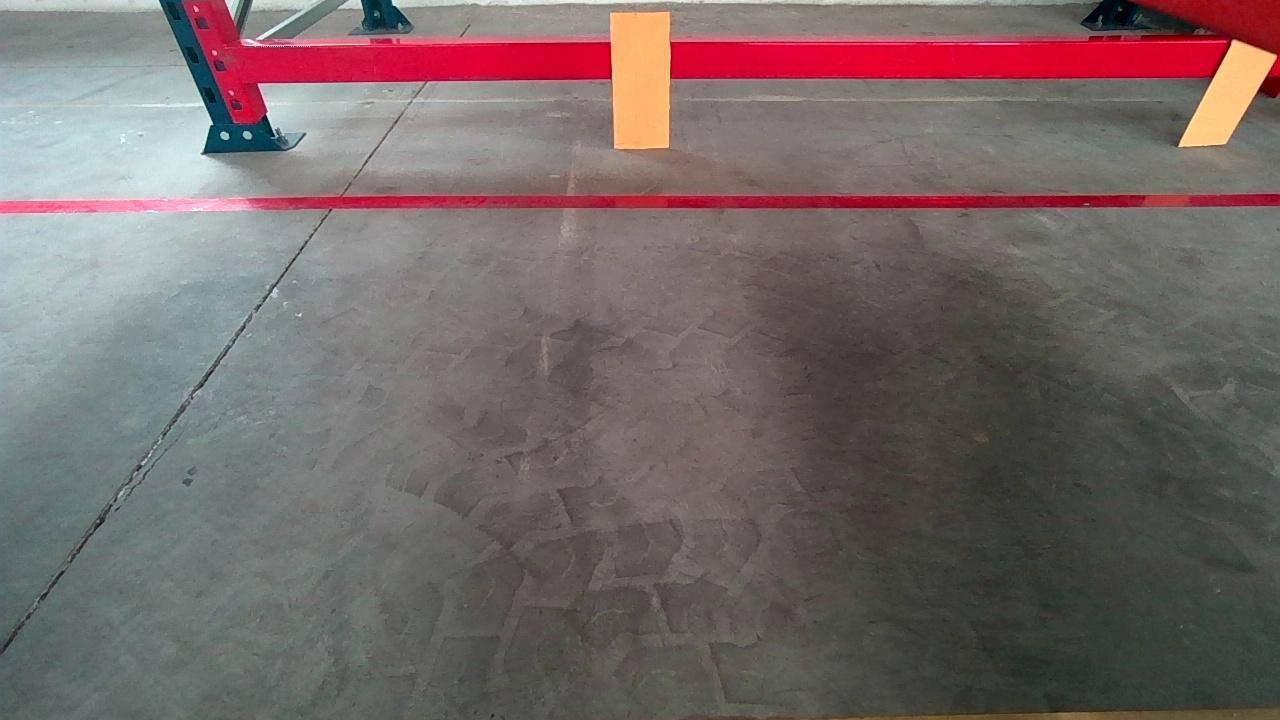h_rack: (245, 35, 1212, 92)
orange_strip: (1181, 38, 1276, 144), (612, 12, 672, 148)
red_line: (3, 185, 1277, 225)
